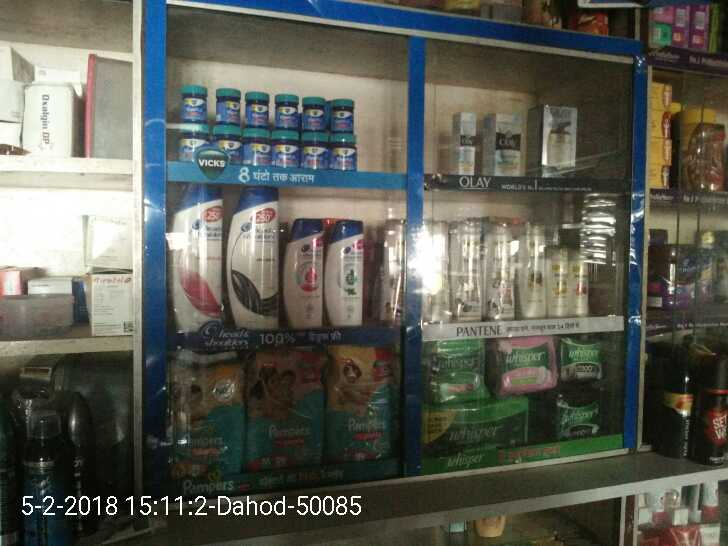beauty: (174, 178, 229, 334), (227, 182, 277, 331), (323, 224, 378, 331), (278, 207, 326, 329), (535, 95, 586, 180), (478, 217, 519, 316), (518, 216, 551, 319), (424, 216, 451, 321), (456, 221, 483, 324), (492, 103, 526, 182), (449, 109, 481, 179), (558, 249, 589, 313), (547, 249, 565, 322)
pharmacy: (166, 348, 246, 497), (245, 349, 326, 481), (332, 336, 406, 472), (413, 397, 530, 449), (494, 336, 556, 391), (428, 334, 482, 397), (553, 397, 604, 442), (557, 330, 605, 376), (210, 83, 244, 130), (324, 96, 362, 136), (175, 82, 207, 124), (331, 136, 362, 175), (271, 130, 302, 168), (268, 86, 296, 126), (292, 96, 323, 132), (242, 130, 272, 167), (302, 133, 332, 167), (174, 128, 206, 158), (240, 90, 267, 123)
